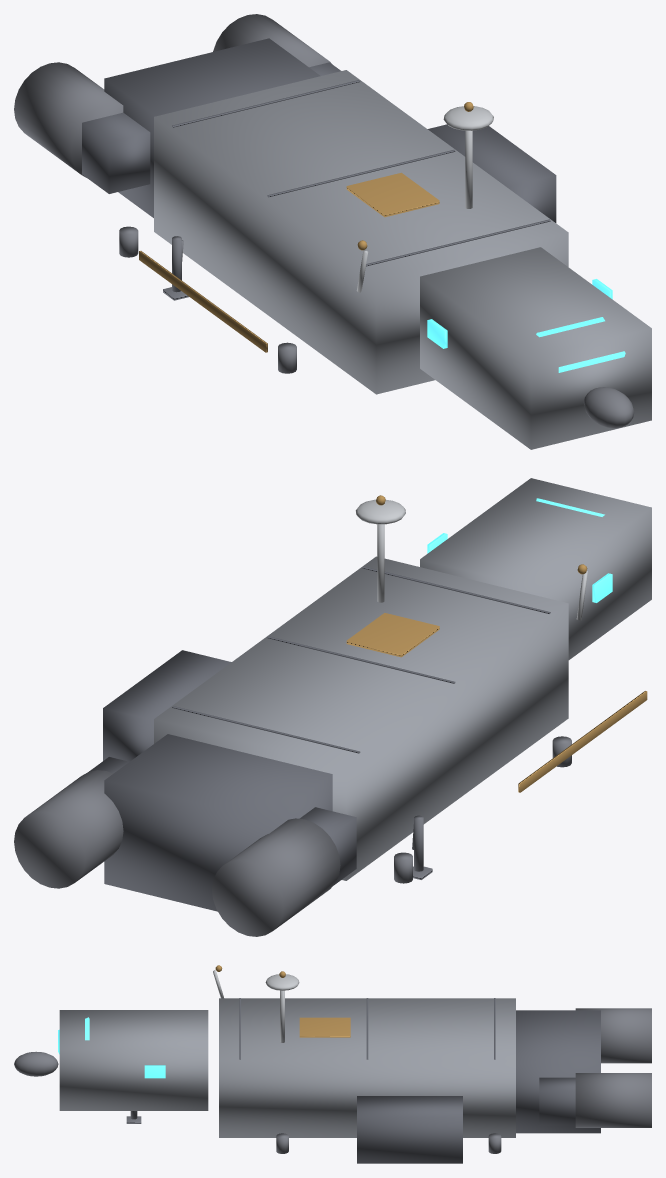
Rendered from mesh_ship_exterior.glb.
3 renders of one model, top to bottom at view 1: azimuth 30°, elevation 25°; view 2: azimuth 150°, elevation 25°; view 3: azimuth 270°, elevation 25°, orthographic. The views are drawn at different scales.
Parts seen in each view (by area): view 1: Hull_Main, Hull_Fore, Hull_Aft, Engine_Port, Engine_Fairing_Port, Cargo_Pod, Engine_Starboard, Hatch_Dorsal, Nose_Sensor, Stripe_Port, Antenna_Dish, Windshield_Main (+1 smaller); view 2: Hull_Main, Hull_Aft, Hull_Fore, Engine_Port, Engine_Starboard, Cargo_Pod, Hatch_Dorsal, Engine_Fairing_Port, Stripe_Port, Antenna_Dish; view 3: Hull_Main, Hull_Fore, Hull_Aft, Cargo_Pod, Engine_Starboard, Engine_Port, Engine_Fairing_Starboard, Hatch_Dorsal, Nose_Sensor, Antenna_Dish, Window_Starboard.
Part boxes in pixels (x1,y1,x2,y2): Hull_Main: (154, 70, 568, 394); Hull_Fore: (420, 247, 651, 449); Hull_Aft: (104, 38, 320, 217); Engine_Port: (14, 62, 123, 177); Engine_Fairing_Port: (82, 112, 150, 193); Cargo_Pod: (427, 124, 556, 222); Engine_Starboard: (213, 14, 331, 67); Hatch_Dorsal: (346, 172, 439, 217); Nose_Sensor: (583, 387, 634, 428); Stripe_Port: (139, 251, 267, 352); Antenna_Dish: (443, 106, 493, 130); Windshield_Main: (536, 317, 625, 372); Hull_Main: (154, 556, 568, 880); Hull_Aft: (104, 734, 332, 911); Hull_Fore: (420, 478, 651, 659); Engine_Port: (212, 818, 340, 936); Engine_Starboard: (14, 770, 123, 888); Cargo_Pod: (103, 650, 231, 761); Hatch_Dorsal: (346, 613, 439, 657); Engine_Fairing_Port: (299, 807, 356, 884); Stripe_Port: (518, 691, 647, 792); Antenna_Dish: (355, 499, 405, 524); Hull_Main: (219, 998, 515, 1137); Hull_Fore: (59, 1010, 208, 1110); Hull_Aft: (516, 1010, 600, 1133); Cargo_Pod: (357, 1096, 462, 1163); Engine_Starboard: (575, 1073, 651, 1127); Engine_Port: (575, 1008, 651, 1063); Engine_Fairing_Starboard: (539, 1077, 575, 1125); Hatch_Dorsal: (299, 1017, 350, 1037); Nose_Sensor: (14, 1051, 58, 1076); Antenna_Dish: (265, 974, 299, 990); Window_Starboard: (144, 1065, 165, 1078).
Size of the model in its own units: 6.87 by 4.26 by 15.03.
